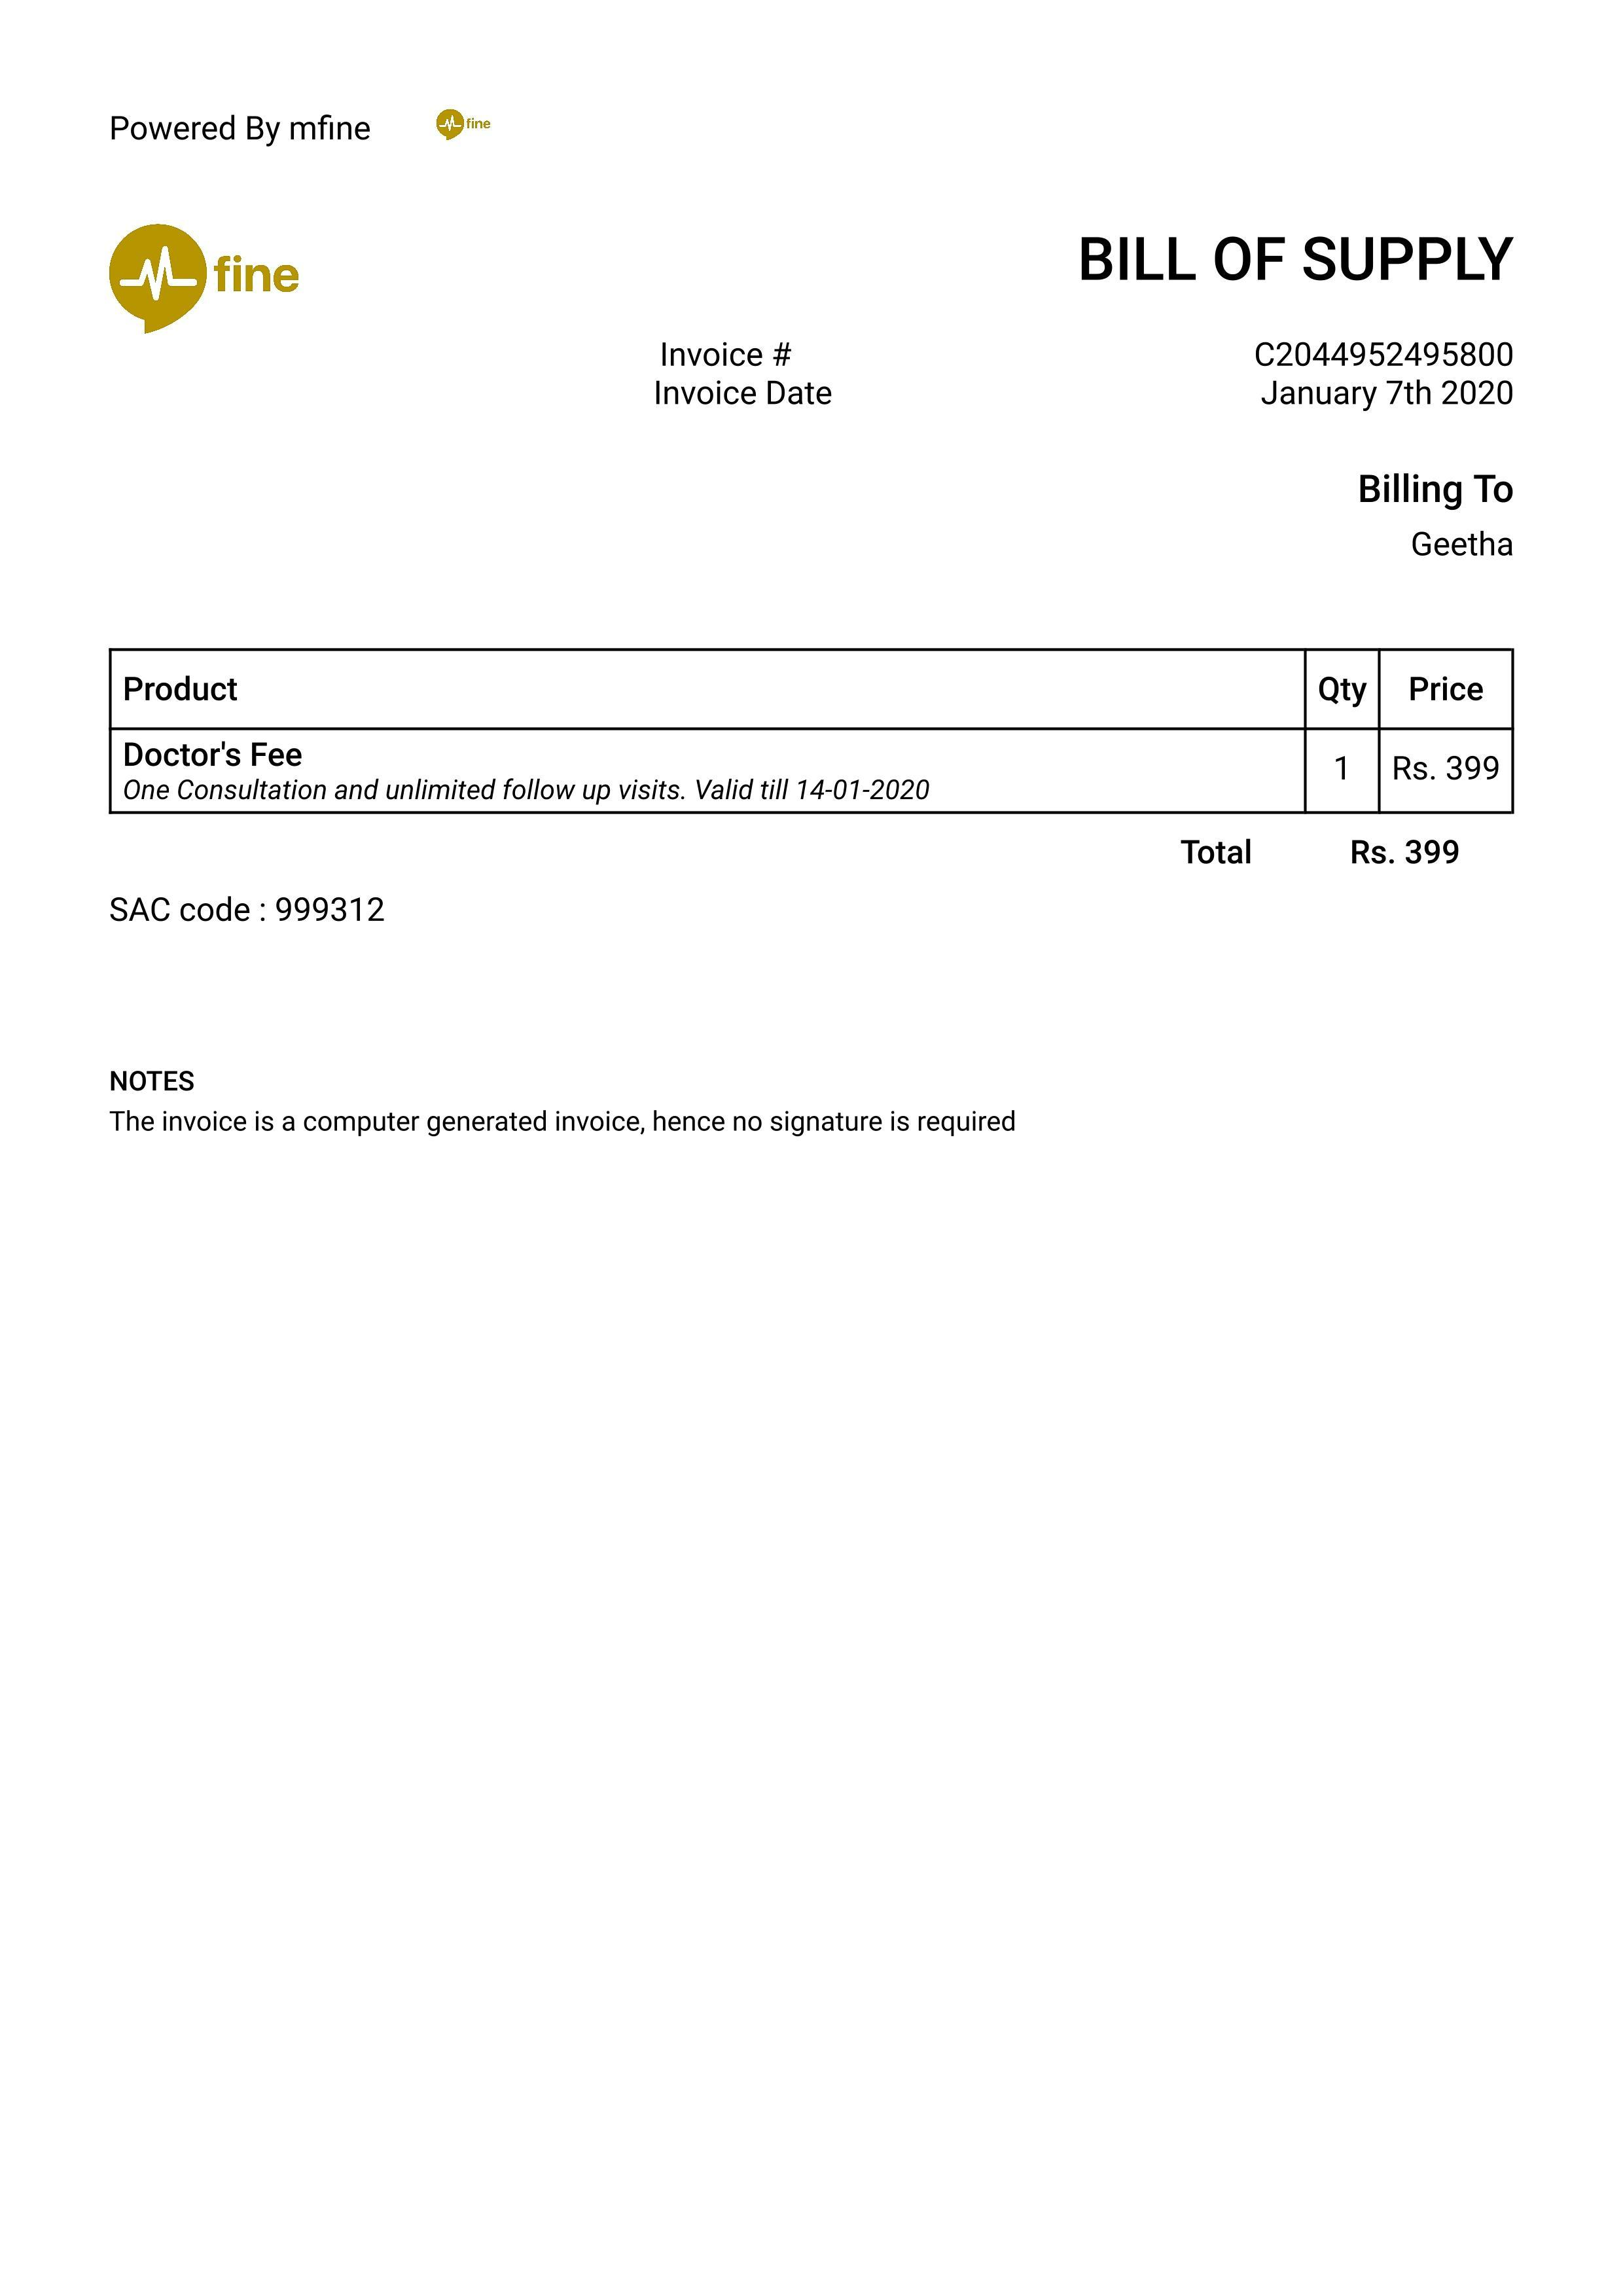InvoiceDate: (1254, 378, 1518, 413)
InvoiceNumber: (1245, 329, 1525, 374)
TotalAmount: (1338, 826, 1461, 878)
